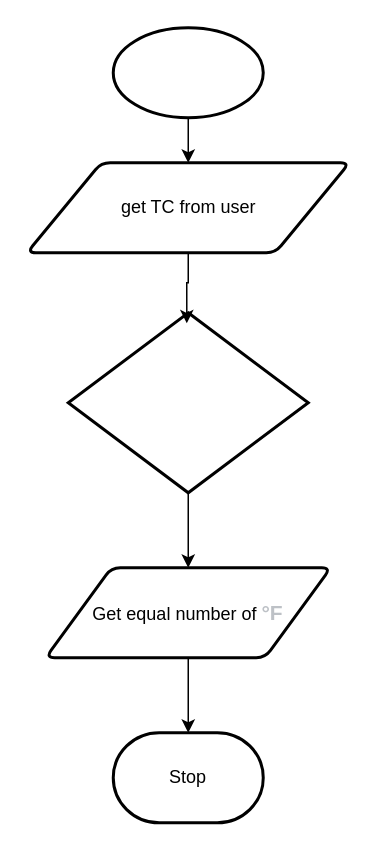
This 377x849 diagram has some shape labels left out. The shapes that lost their labels are listed below. From the top down, each one's centre as x and y in pixels, then its label:
At (x=187, y=72): "temperature".
At (x=187, y=402): "d o math with number Tf = (9/5)*Tc+32 °".
